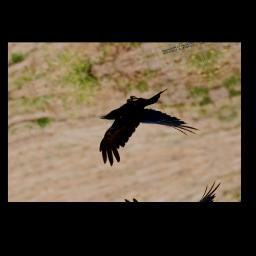Crow: (80, 81, 205, 169)
